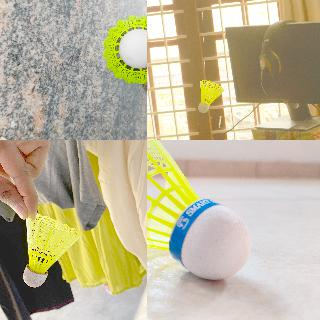shuttlecock: (147, 140, 250, 280), (24, 214, 80, 286), (102, 15, 146, 84), (198, 80, 222, 112)
